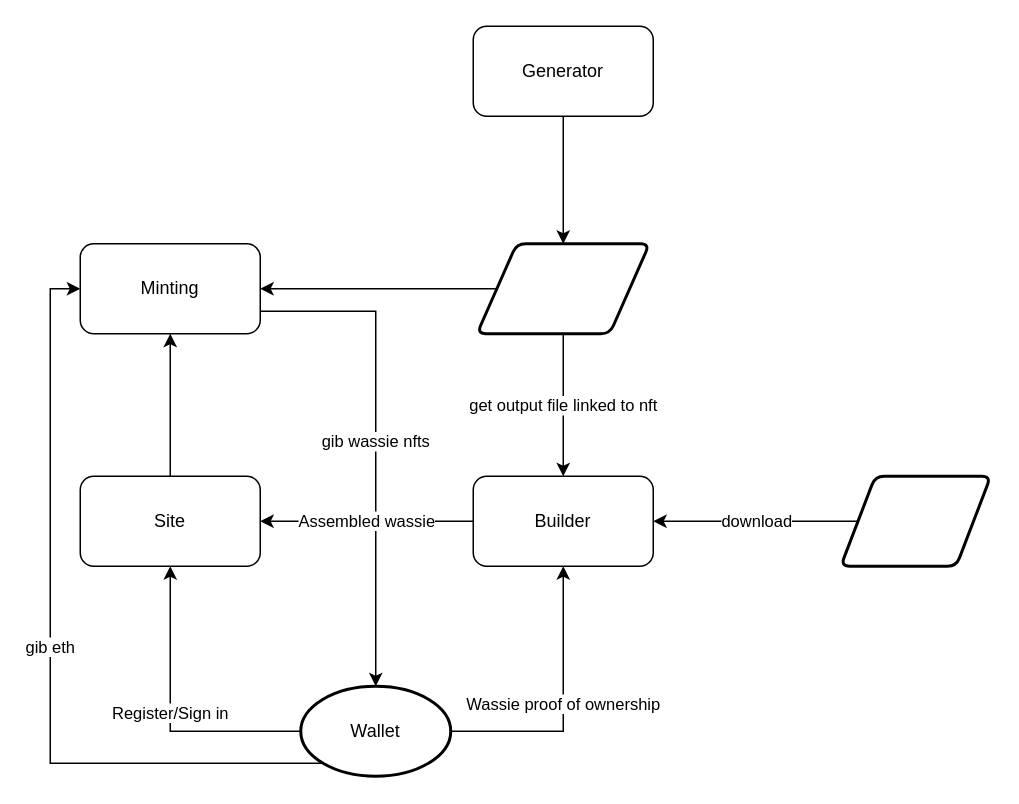
Some shapes in this 1019 by 804 pixel diagram are drawn without their labels. The shapes that lost their labels are listed below. From the top down, each one's centre as x and y in pixels, then its label:
At pixel 562 288: "JSON Output".
At pixel 915 520: "Trait Assets".
